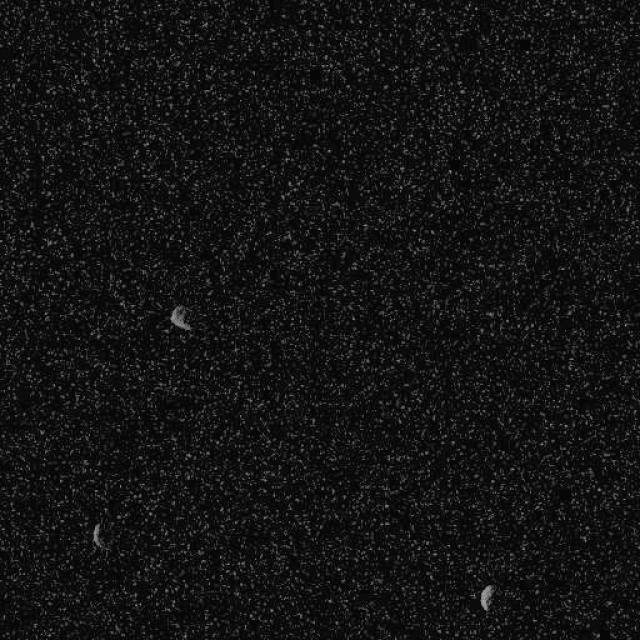D2: (169, 304, 191, 331), (479, 582, 495, 612), (90, 521, 106, 550)
